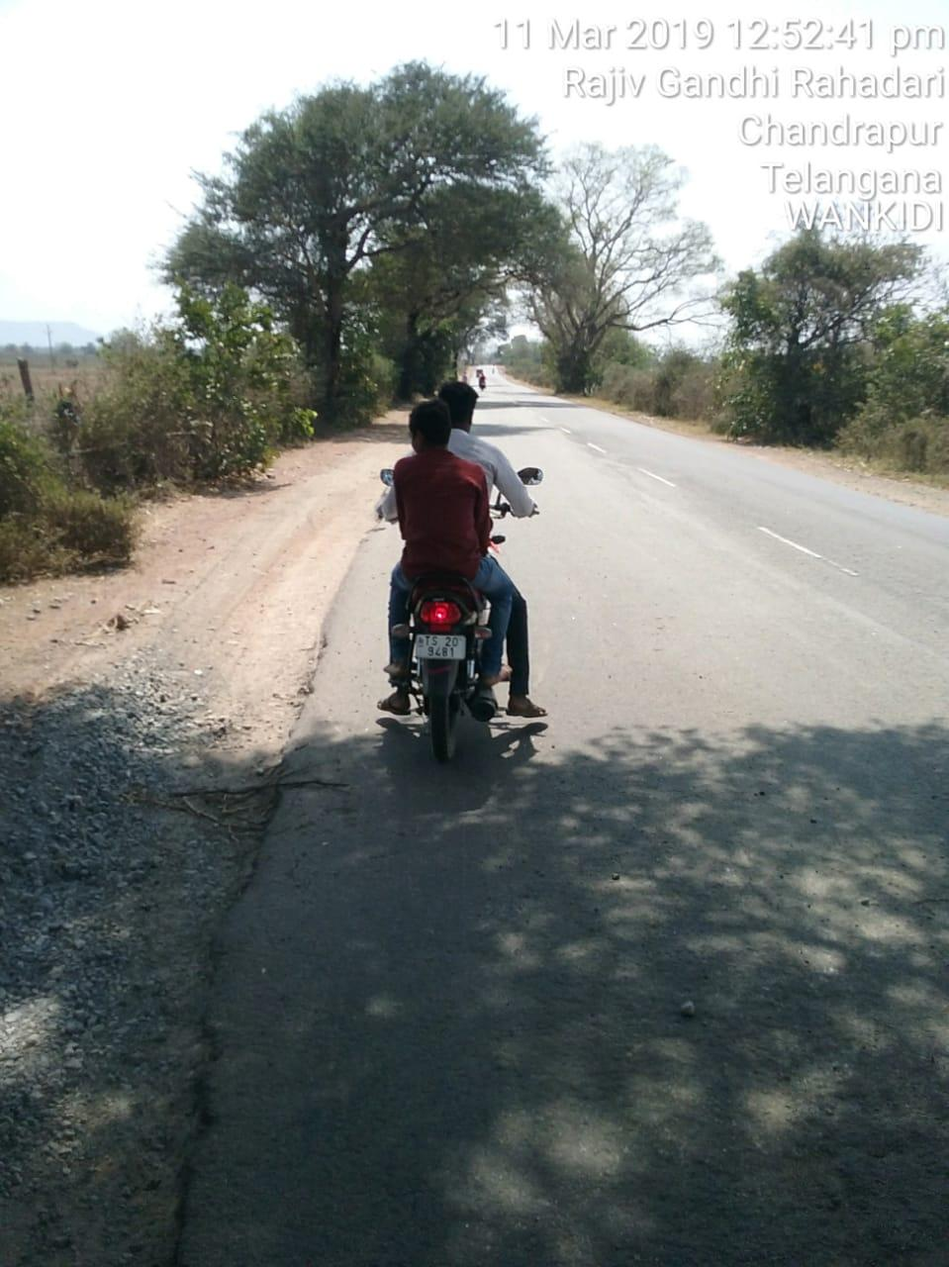plate: (406, 631, 473, 668)
